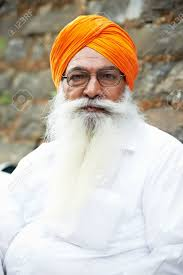helmet: (48, 10, 142, 147)
